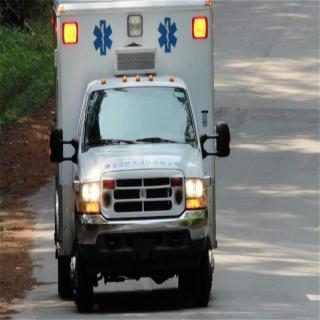Ambulance: (38, 2, 240, 320)
